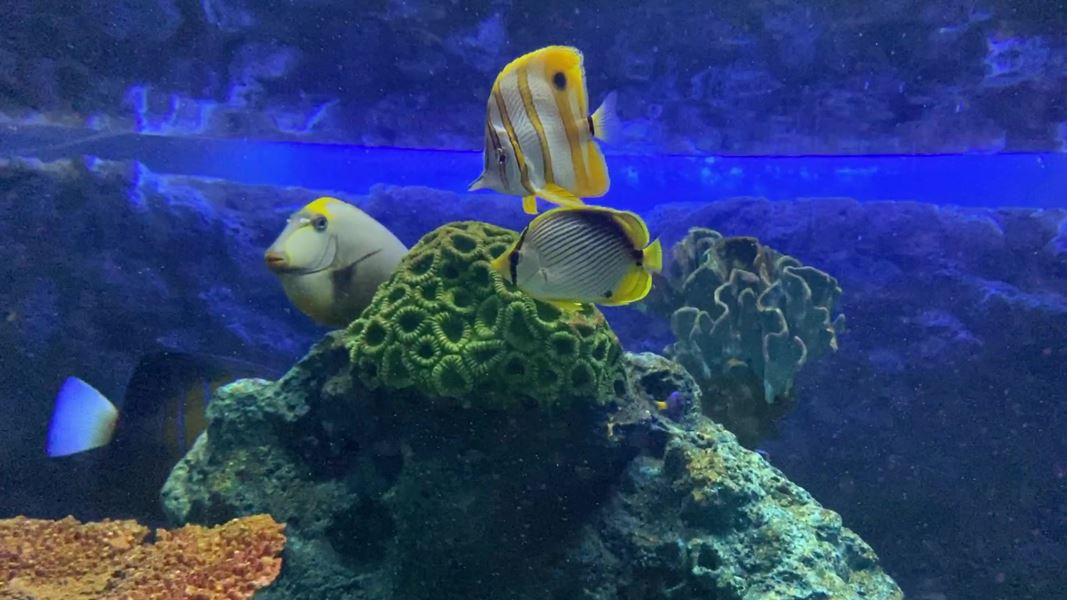Black-backed butterflyfish: (485, 199, 682, 320)
